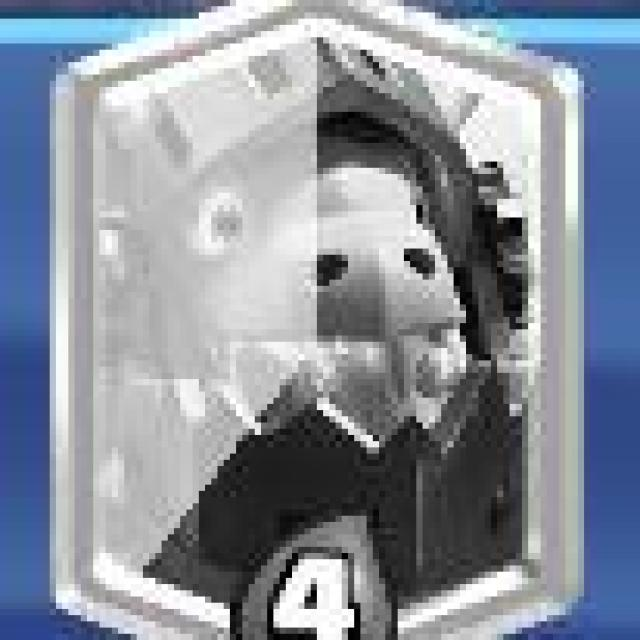Inferno_Dragon: (51, 5, 575, 640)
